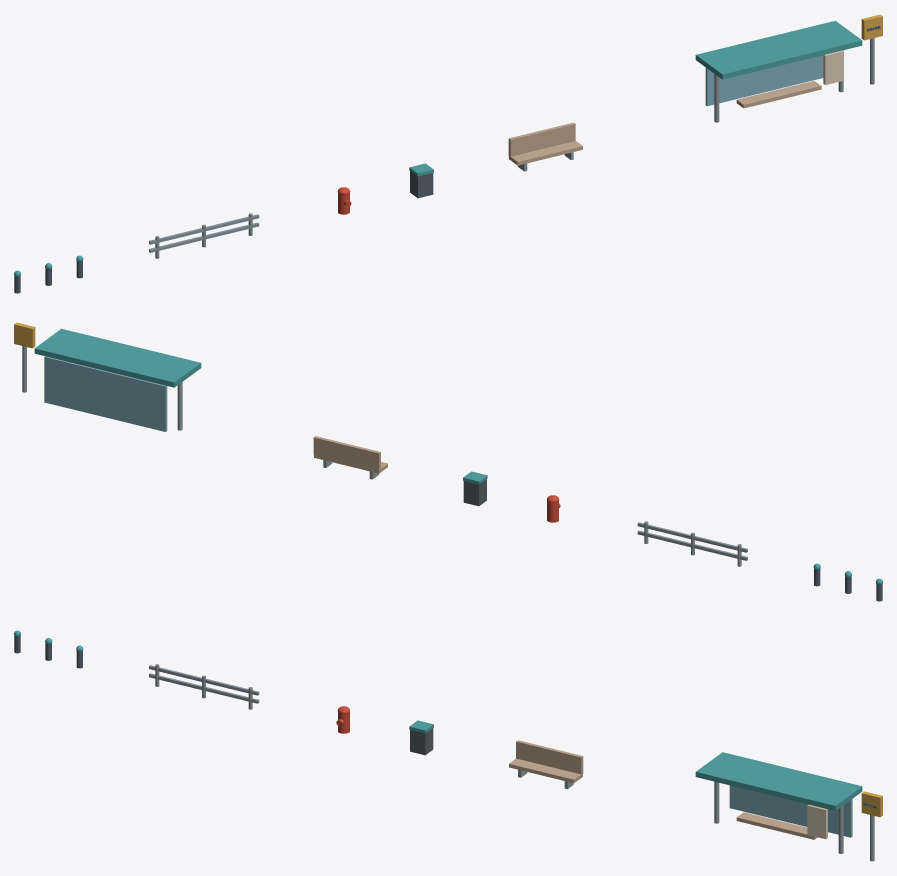
3 views of the same model, one above another, from view 1: azimuth 30°, elevation 25°; view 2: azimuth 150°, elevation 25°; view 3: azimuth 330°, elevation 25° (orthographic).
Visible parts, largest first — view 1: Stop_Shelter_Roof, Shelter_Back, Bench_Back, Shelter_Bench, Bench_Seat, Timetable; view 2: Shelter_Back, Stop_Shelter_Roof, Bench_Back; view 3: Stop_Shelter_Roof, Shelter_Back, Bench_Back, Shelter_Bench, Bench_Seat, Timetable, Waste_Bin, Guardrail_Beam, Guardrail_Beam.001, Stop_Sign.
Boxes of the visible parts, x1,y1,x2,y2 form: Stop_Shelter_Roof: (695,20,862,79); Shelter_Back: (705,55,823,106); Bench_Back: (508,122,575,156); Shelter_Bench: (736,81,821,108); Bench_Seat: (509,141,582,165); Timetable: (823,50,843,84); Shelter_Back: (44,356,167,431); Stop_Shelter_Roof: (34,328,201,387); Bench_Back: (313,436,380,471); Stop_Shelter_Roof: (695,752,862,810); Shelter_Back: (729,785,852,837); Bench_Back: (516,740,583,774); Shelter_Bench: (736,812,817,839); Bench_Seat: (509,758,582,783); Timetable: (807,804,827,839); Waste_Bin: (410,728,433,755); Guardrail_Beam: (149,673,259,703); Guardrail_Beam.001: (149,665,259,695); Stop_Sign: (861,791,882,817).
Bounding box in the file's own units: 55.8 × 4.06 × 3.
